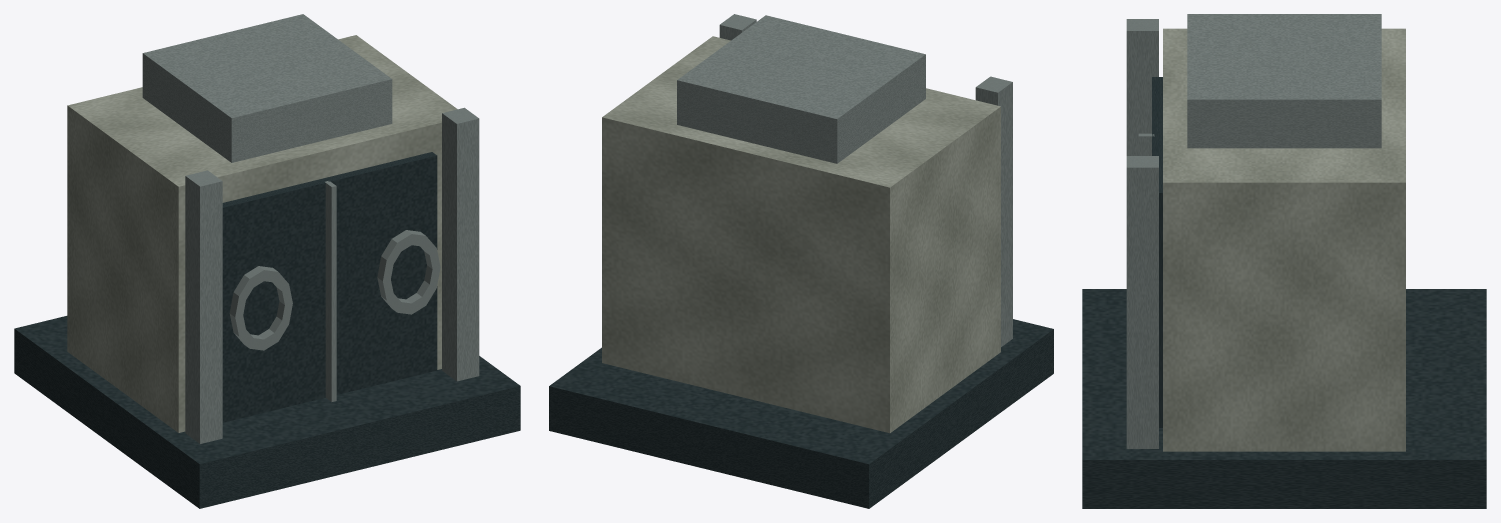
File: rim_hatch_01.fbx
3 renders of one model, left to right at view 1: azimuth 30°, elevation 25°; view 2: azimuth 150°, elevation 25°; view 3: azimuth 270°, elevation 25°, orthographic. The views are drawn at different scales.
Visible parts, largest first — view 1: rim_hatch_01_LOD0; view 2: rim_hatch_01_LOD0; view 3: rim_hatch_01_LOD0.
Part boxes in pixels (left/top/right/bottom): rim_hatch_01_LOD0: left=14, top=14, right=520, bottom=508; rim_hatch_01_LOD0: left=549, top=14, right=1053, bottom=508; rim_hatch_01_LOD0: left=1082, top=14, right=1486, bottom=508.
Size of what is drawn, in the model's own units: 1 by 1 by 1.
